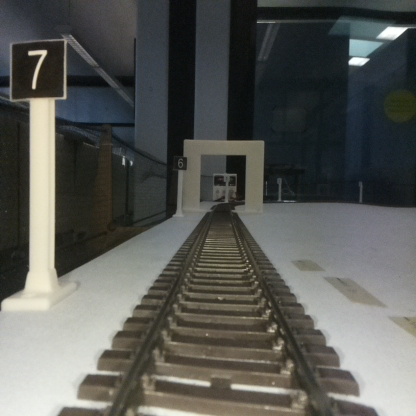black-info-6: (174, 156, 186, 216)
black-info-7: (10, 40, 64, 309)
